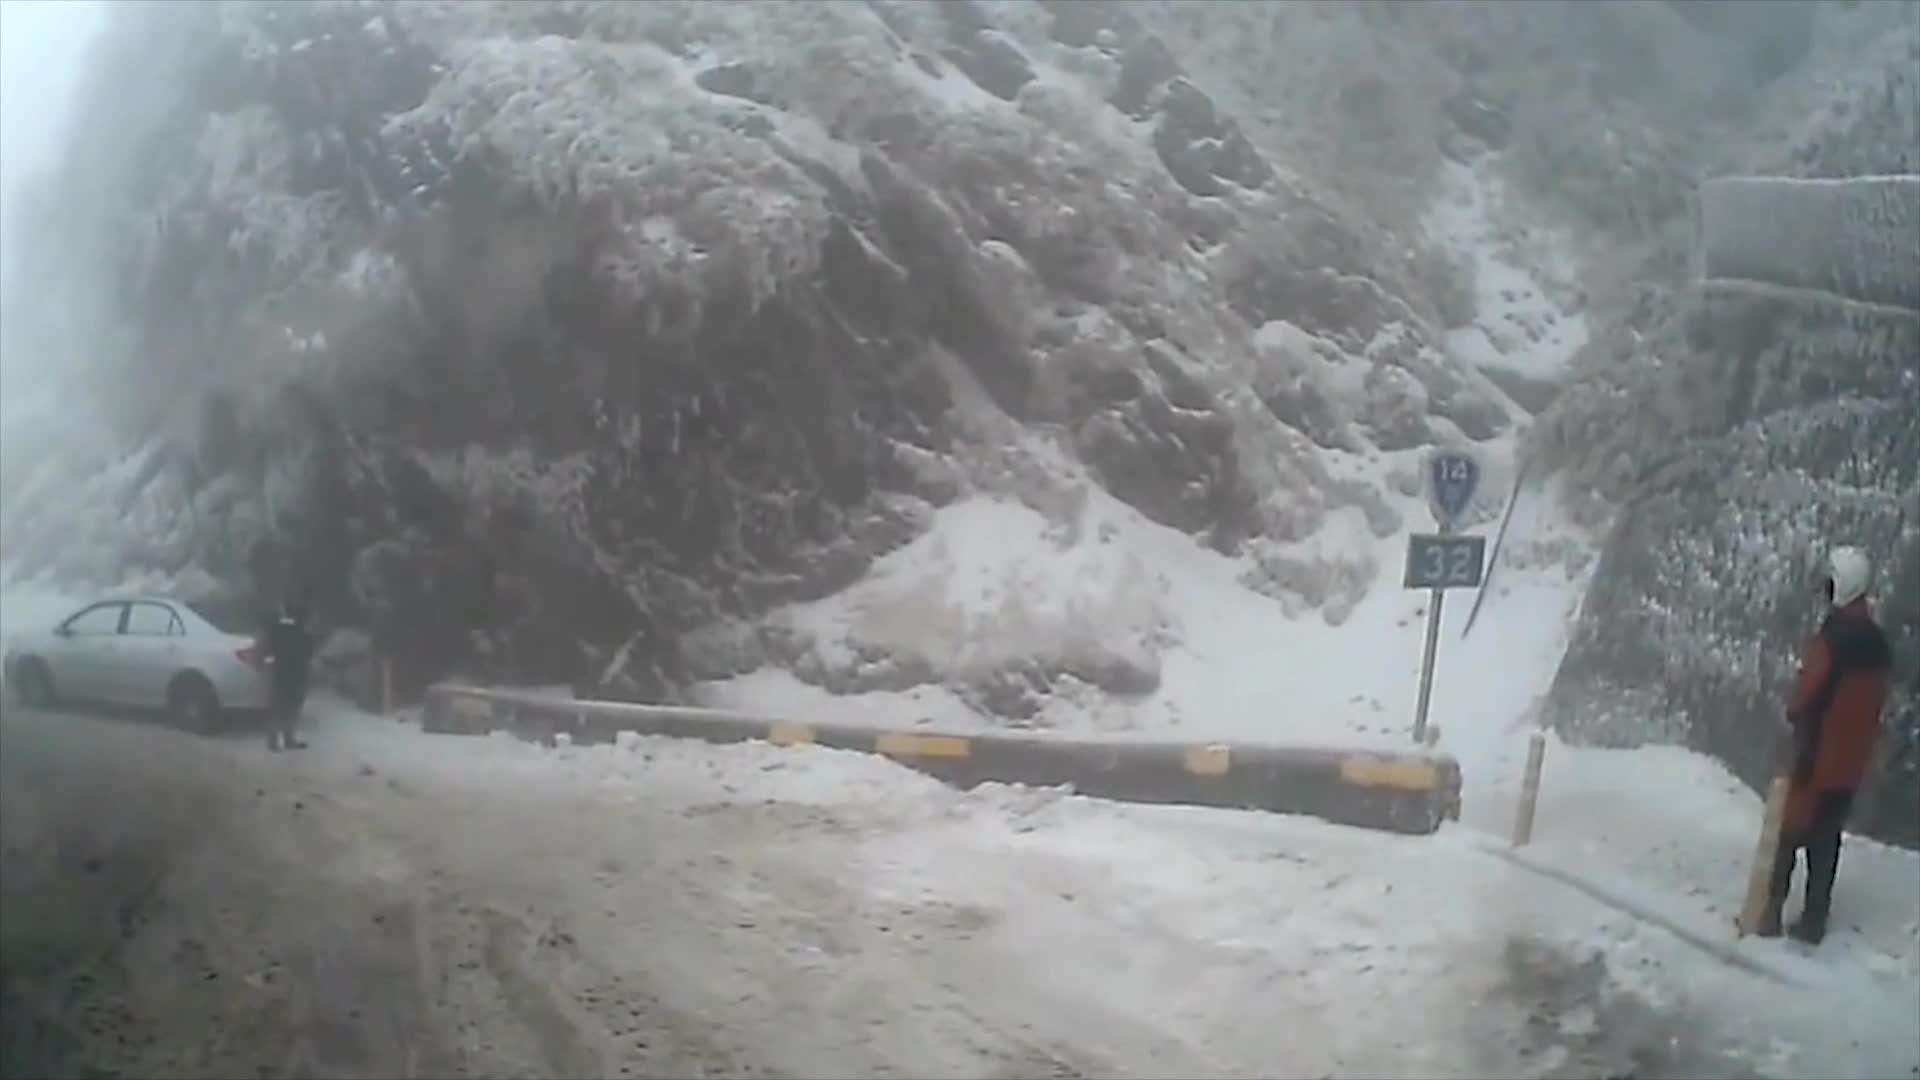pedestrian: (1748, 548, 1894, 941), (258, 598, 315, 757)
vehicle: (1, 595, 290, 738)
